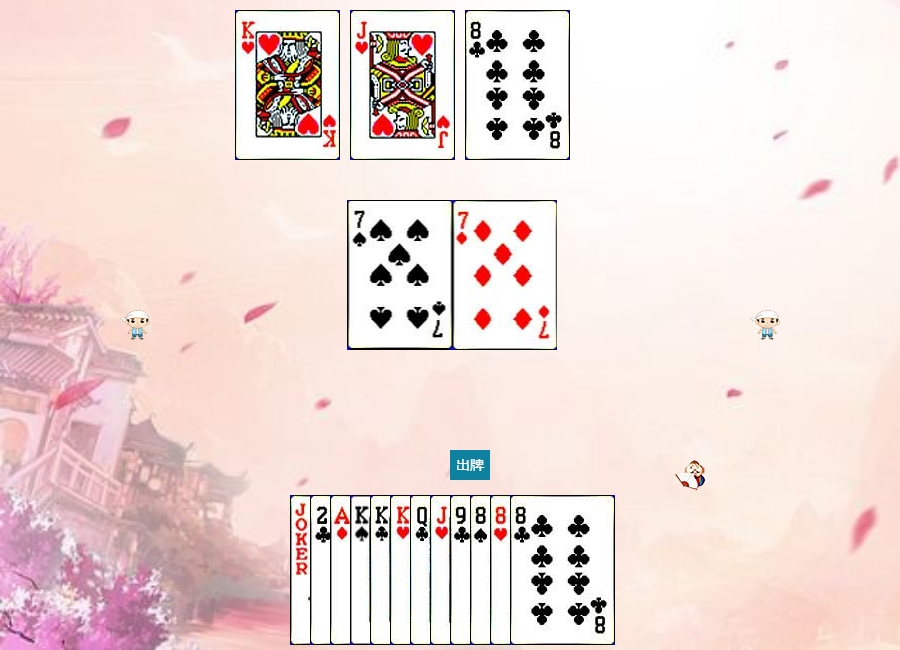11~3: (350, 10, 455, 160), (430, 495, 535, 645)
12~2: (410, 495, 515, 645)
13~2: (370, 495, 475, 645)
13~3: (235, 10, 340, 160), (390, 495, 495, 645)
13~4: (350, 495, 455, 645)
14~1: (330, 495, 435, 645)
15~2: (310, 495, 415, 645)
18~4: (290, 495, 395, 645)
7~1: (453, 200, 558, 350)
7~4: (348, 200, 453, 350)
8~2: (465, 10, 570, 160), (510, 495, 615, 645)
8~3: (490, 495, 595, 645)
8~4: (470, 495, 575, 645)
9~2: (450, 495, 555, 645)
